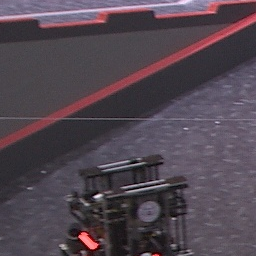Robot: (56, 150, 198, 256)
